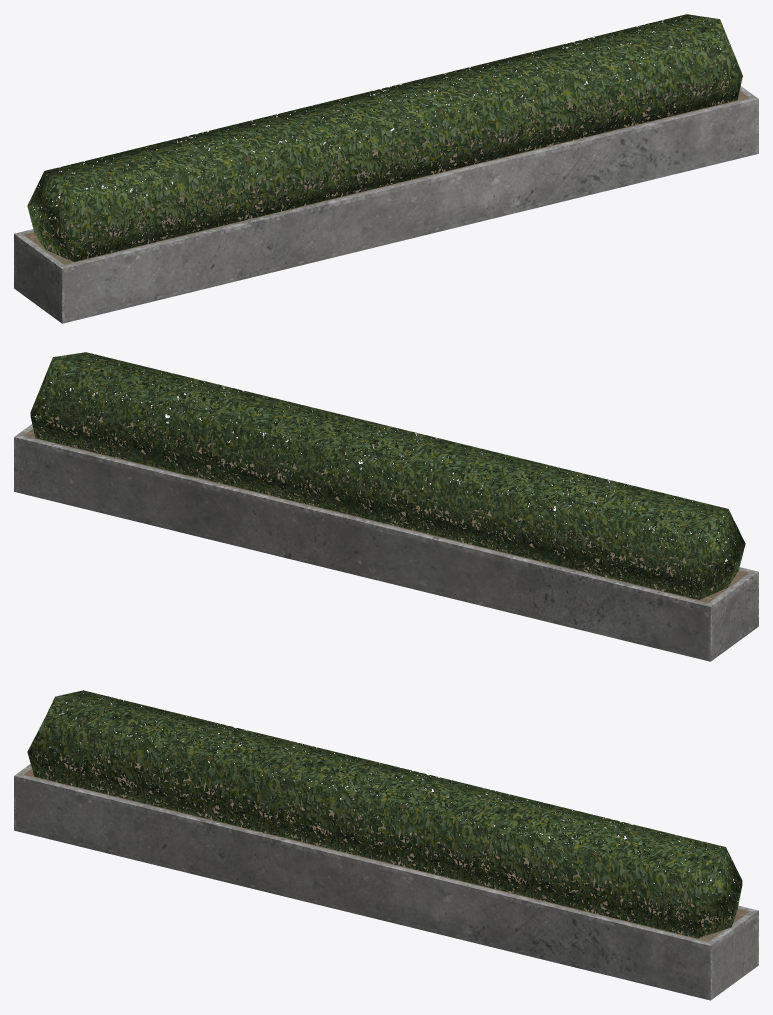
File: jctlowHedgeB.fbx
3 views of the same model, one above another, from view 1: azimuth 30°, elevation 25°; view 2: azimuth 150°, elevation 25°; view 3: azimuth 330°, elevation 25° (orthographic).
Parts seen in each view (by area): view 1: jctlowHedgeB; view 2: jctlowHedgeB; view 3: jctlowHedgeB.
Part boxes in pixels (x1,y1,x2,y2): jctlowHedgeB: (14,14,758,323); jctlowHedgeB: (14,352,758,661); jctlowHedgeB: (14,690,758,1000).
Size of the model in its own units: 600 by 99.2 by 72.
Materials: 2 (2 with a texture image).
